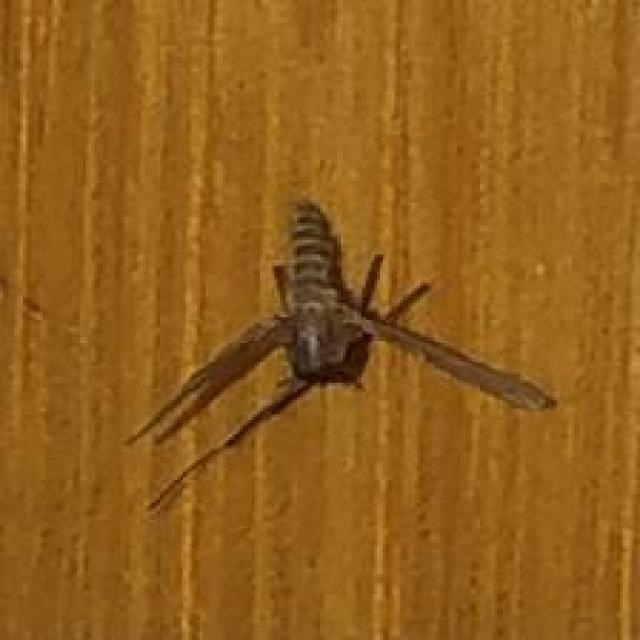Culex: (121, 195, 558, 516)
